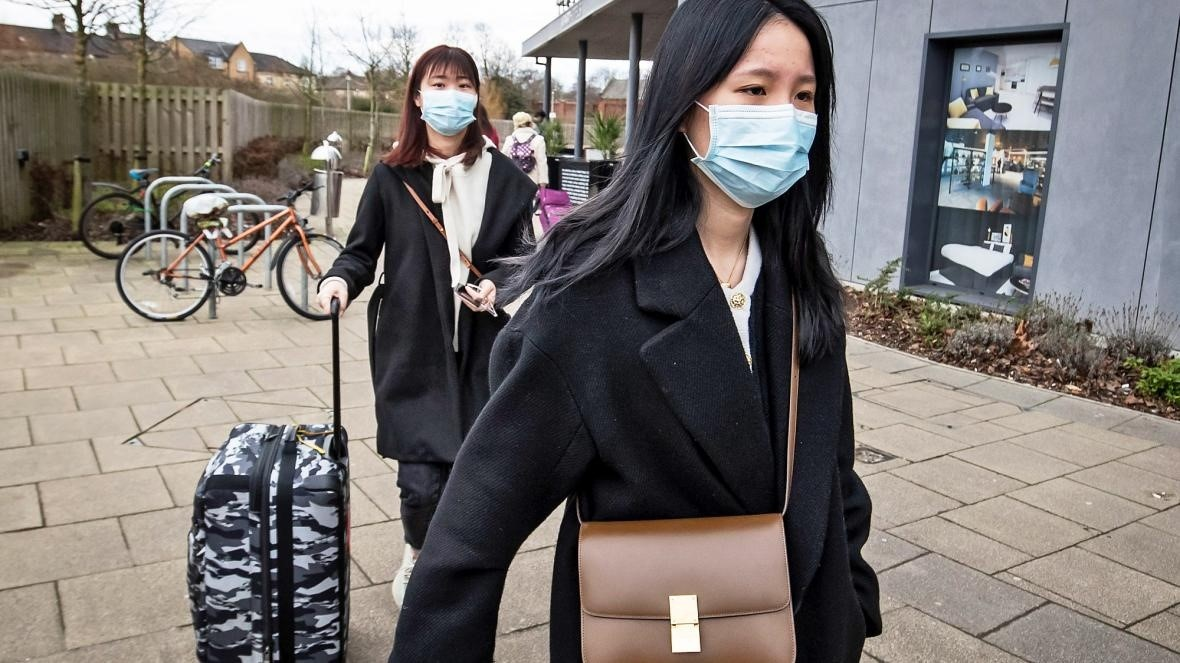face_with_mask: (680, 8, 838, 223), (403, 51, 489, 152)
